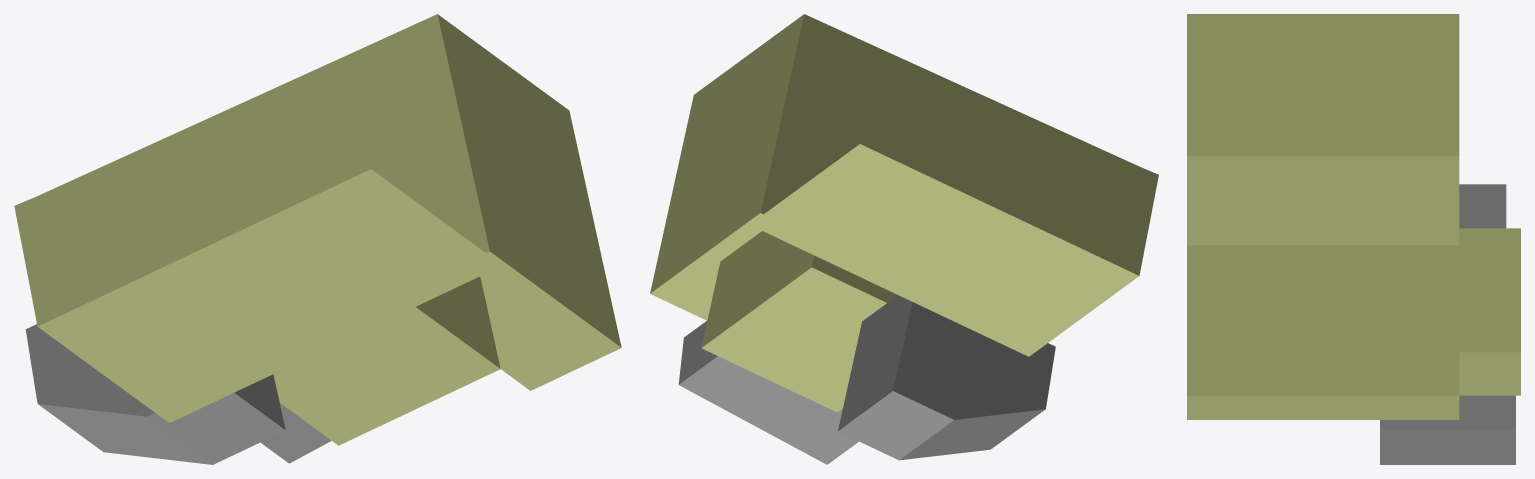
3 views of the same model, side by side, from view 1: azimuth 30°, elevation 25°; view 2: azimuth 150°, elevation 25°; view 3: azimuth 270°, elevation 25° (orthographic). The views are drawn at different scales.
Parts seen in each view (by area): view 1: 0_1_2_0_0_2_2_0_2_2_0; view 2: 0_1_2_0_0_2_2_0_2_2_0; view 3: 0_1_2_0_0_2_2_0_2_2_0.
Part boxes in pixels (x1,y1,x2,y2): 0_1_2_0_0_2_2_0_2_2_0: (14, 14, 621, 464); 0_1_2_0_0_2_2_0_2_2_0: (650, 14, 1158, 464); 0_1_2_0_0_2_2_0_2_2_0: (1187, 14, 1520, 464).
Size of the model in its own units: 12.49 by 9.44 by 7.36.
